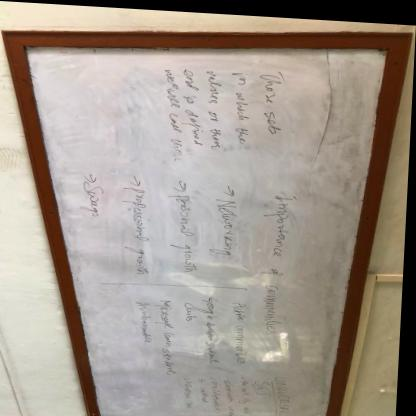Handwritten text: (259, 181, 305, 338), (120, 182, 163, 277), (167, 188, 208, 274), (257, 64, 293, 138), (179, 58, 209, 143), (208, 194, 248, 255), (155, 293, 183, 376), (204, 63, 231, 148), (231, 64, 256, 149), (199, 291, 228, 363), (229, 295, 258, 362), (74, 179, 113, 221), (131, 293, 159, 346), (279, 369, 301, 412), (242, 371, 259, 416), (226, 372, 242, 416), (213, 370, 228, 413), (183, 372, 199, 412), (200, 372, 215, 406), (259, 371, 278, 394), (186, 295, 201, 322)
Whiteboard: (18, 38, 395, 416)
